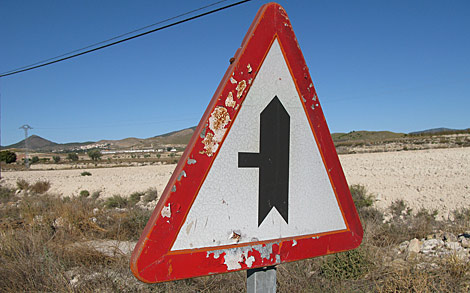Cartel: (134, 1, 367, 285)
